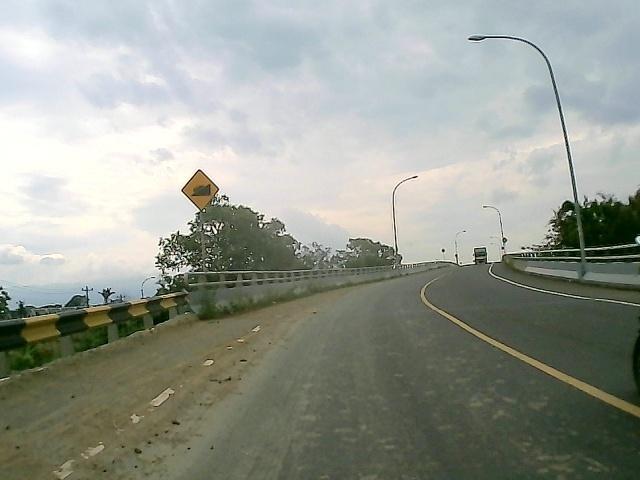Jalanan menanjak: (181, 169, 220, 209)
